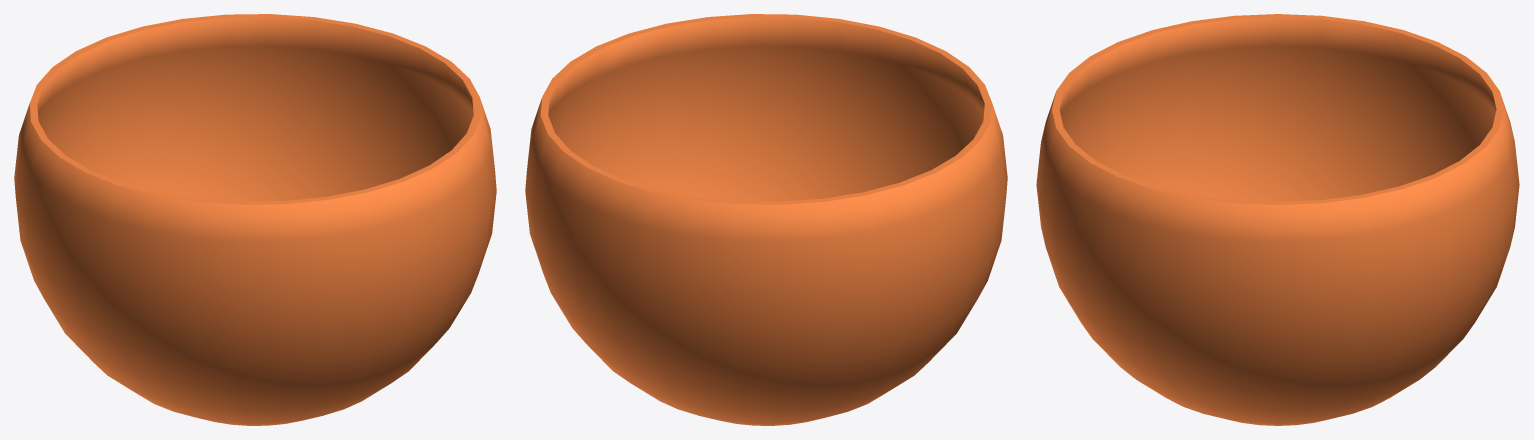
File: ballprinting.glb
3 renders of one model, left to right at view 1: azimuth 30°, elevation 25°; view 2: azimuth 150°, elevation 25°; view 3: azimuth 270°, elevation 25°, orthographic.
Visible parts, largest first — view 1: CutBall; view 2: CutBall; view 3: CutBall.
Part boxes in pixels (x1,y1,x2,y2): CutBall: (14, 14, 496, 425); CutBall: (525, 14, 1007, 425); CutBall: (1036, 14, 1519, 425).
Bounding box in the file's own units: 0.1288 × 0.0865 × 0.1288.
